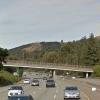Bridge: (8, 50, 90, 77)
